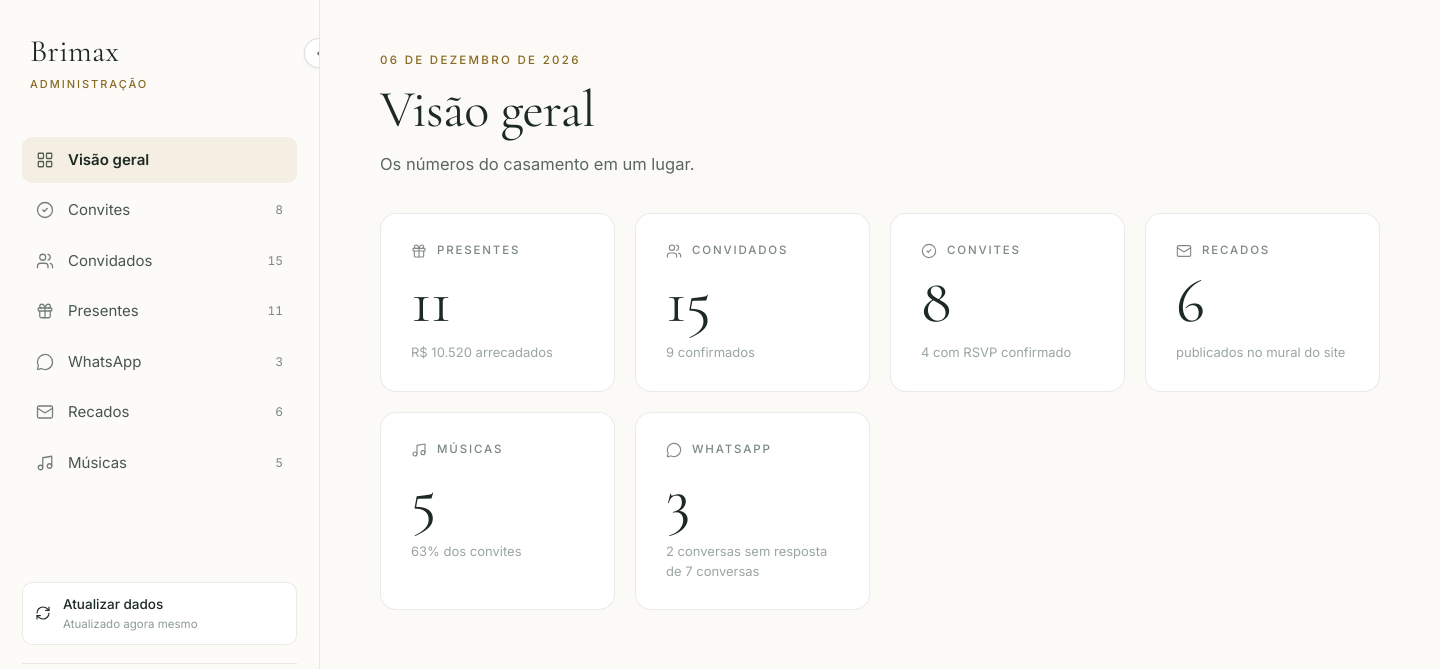
it: invite-detail flow refresh › re-rendering an open invite detail screen issues no extra request
The image size is (1440, 669).
Expected: the heading "Visão geral" is shown, 380,78 -> 595,141
What coordinates should you click on to do the following:
click the link "Convites 8"
I would click on:
 (99, 210)
Its box is 36,200 -> 283,219.
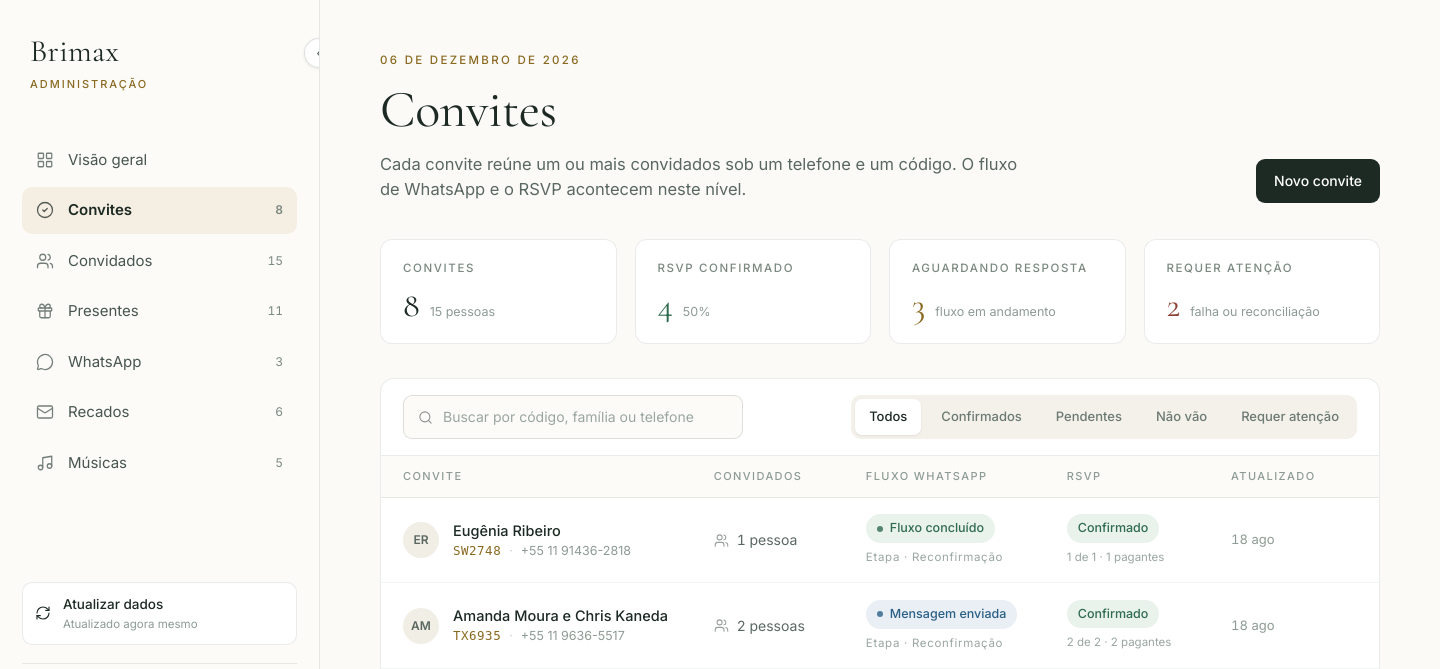
What coordinates should you click on to do the following:
click the button with aria-label "Abrir convite SW2748"
I would click on:
 (901, 540)
Its box is 381,498 -> 1421,583.
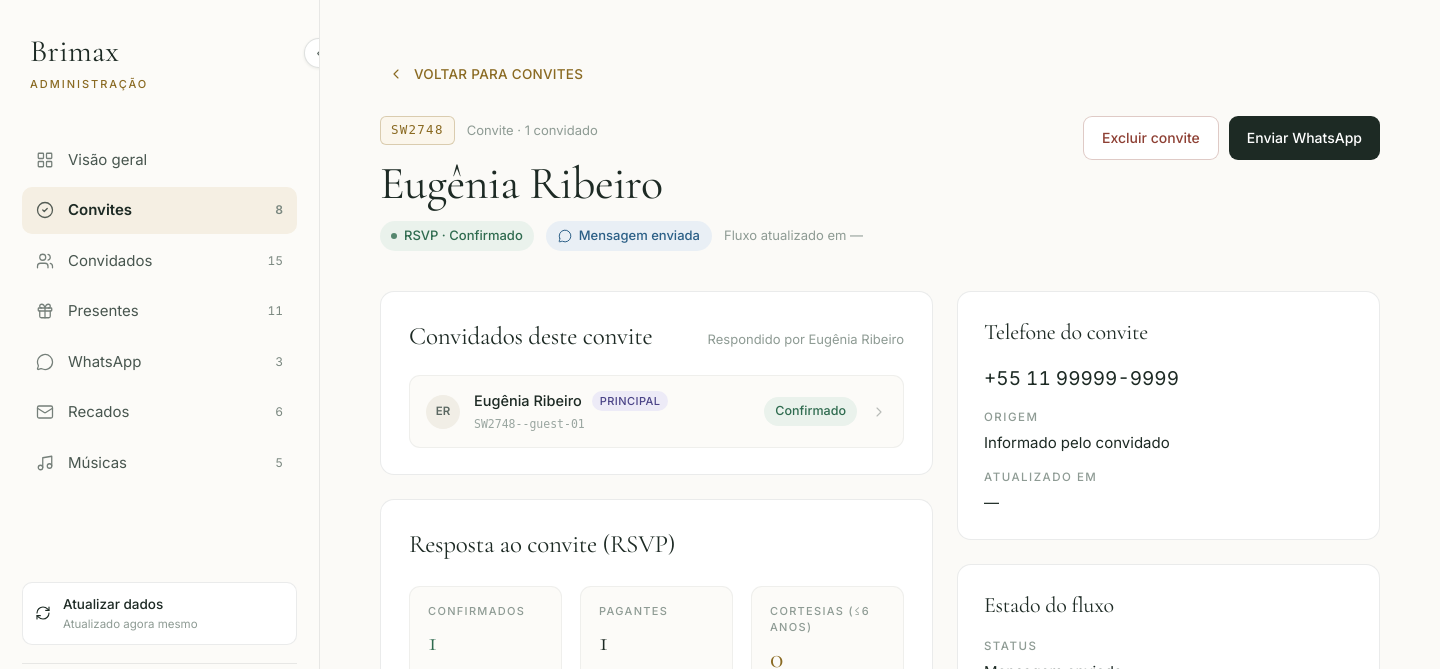
Expected: the heading "Eugênia Ribeiro" is shown, 380,155 -> 663,211
